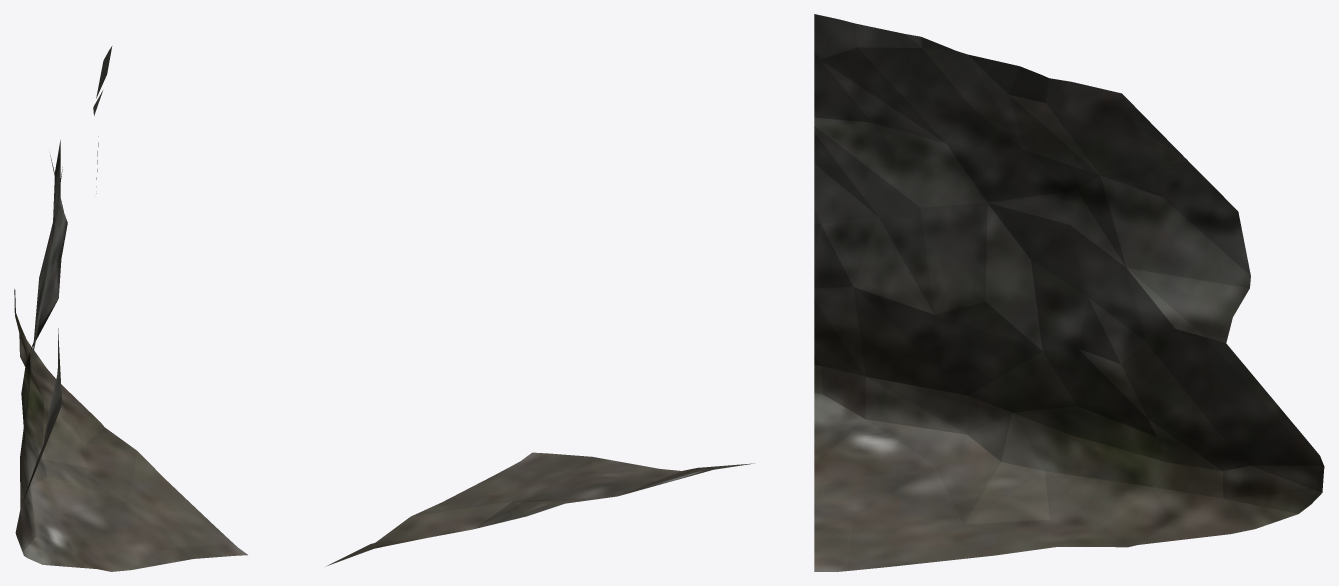
The picture shows the model from 3 angles, left to right: view 1: azimuth 30°, elevation 25°; view 2: azimuth 150°, elevation 25°; view 3: azimuth 270°, elevation 25°; orthographic projection. The views are drawn at different scales.
Bounding box in the file's own units: 0.2706 × 0.4878 × 0.4713.
Materials: 1 (1 with a texture image).
